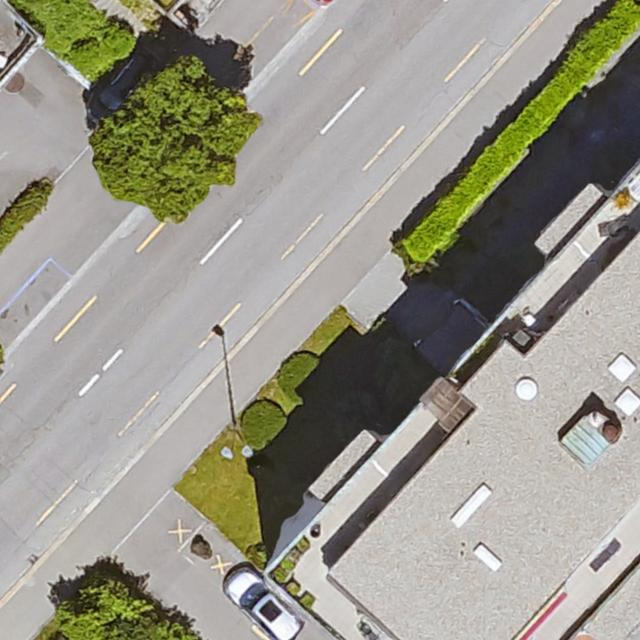tree: (94, 58, 255, 224), (59, 582, 147, 640), (132, 614, 201, 640)
